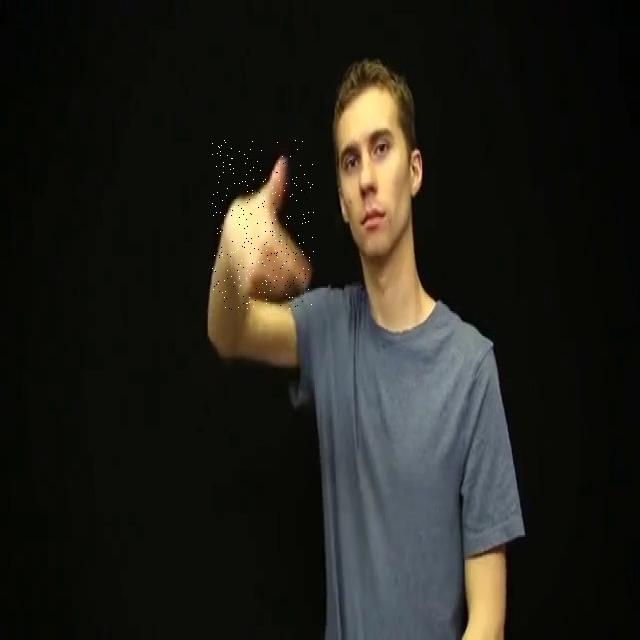pizza: (212, 140, 314, 310)
